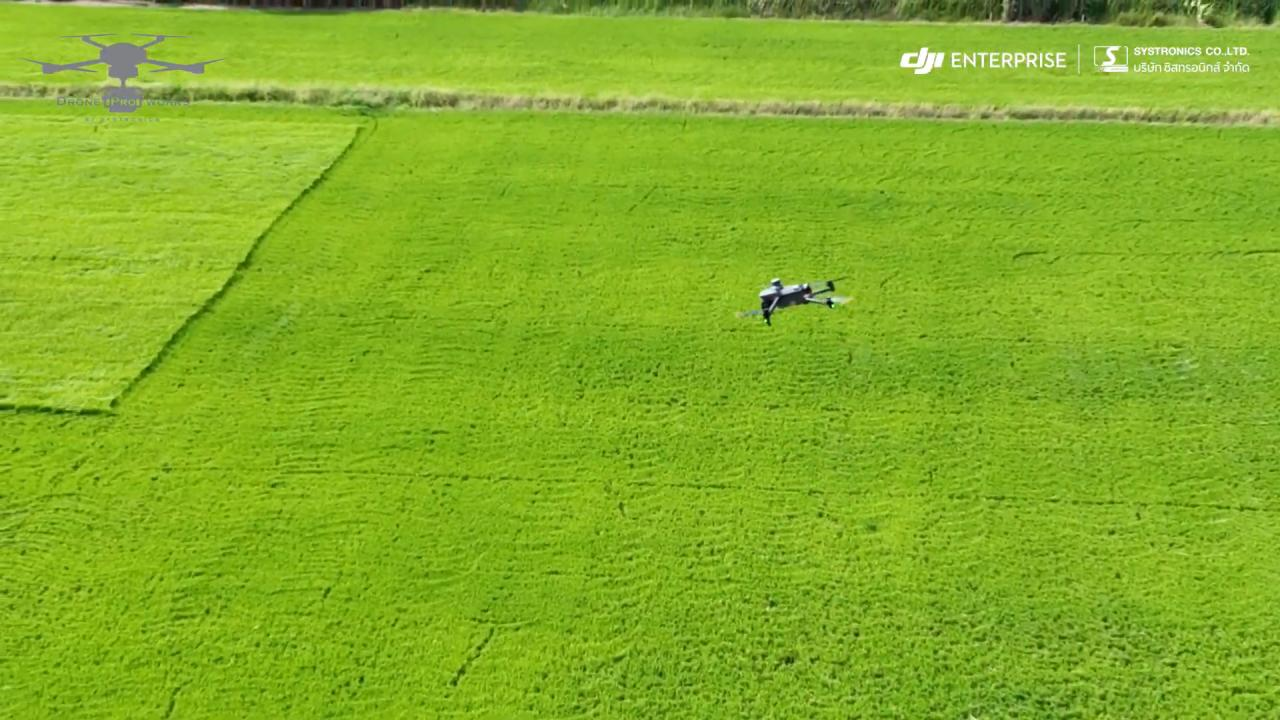Drone: (734, 268, 860, 332)
